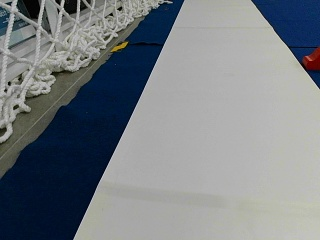bridge: (303, 47, 319, 68)
